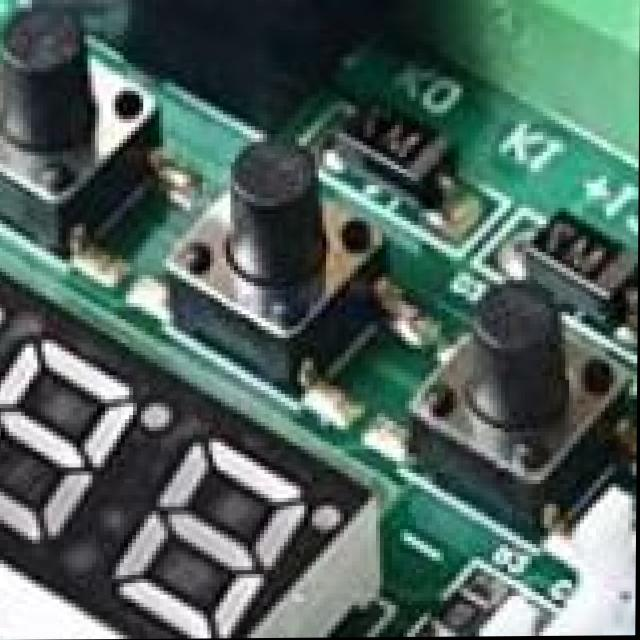connector: (371, 0, 640, 146), (484, 468, 637, 637)
diode: (327, 69, 452, 208), (502, 204, 639, 311)
display: (0, 262, 424, 640)
resistor: (420, 561, 497, 638)
switch: (405, 284, 638, 482), (174, 130, 367, 327), (0, 0, 156, 192)
